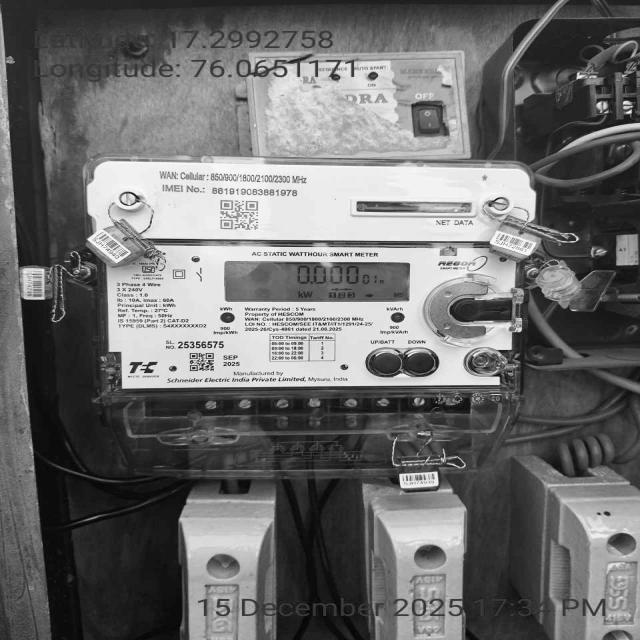meter: (89, 158, 530, 387)
